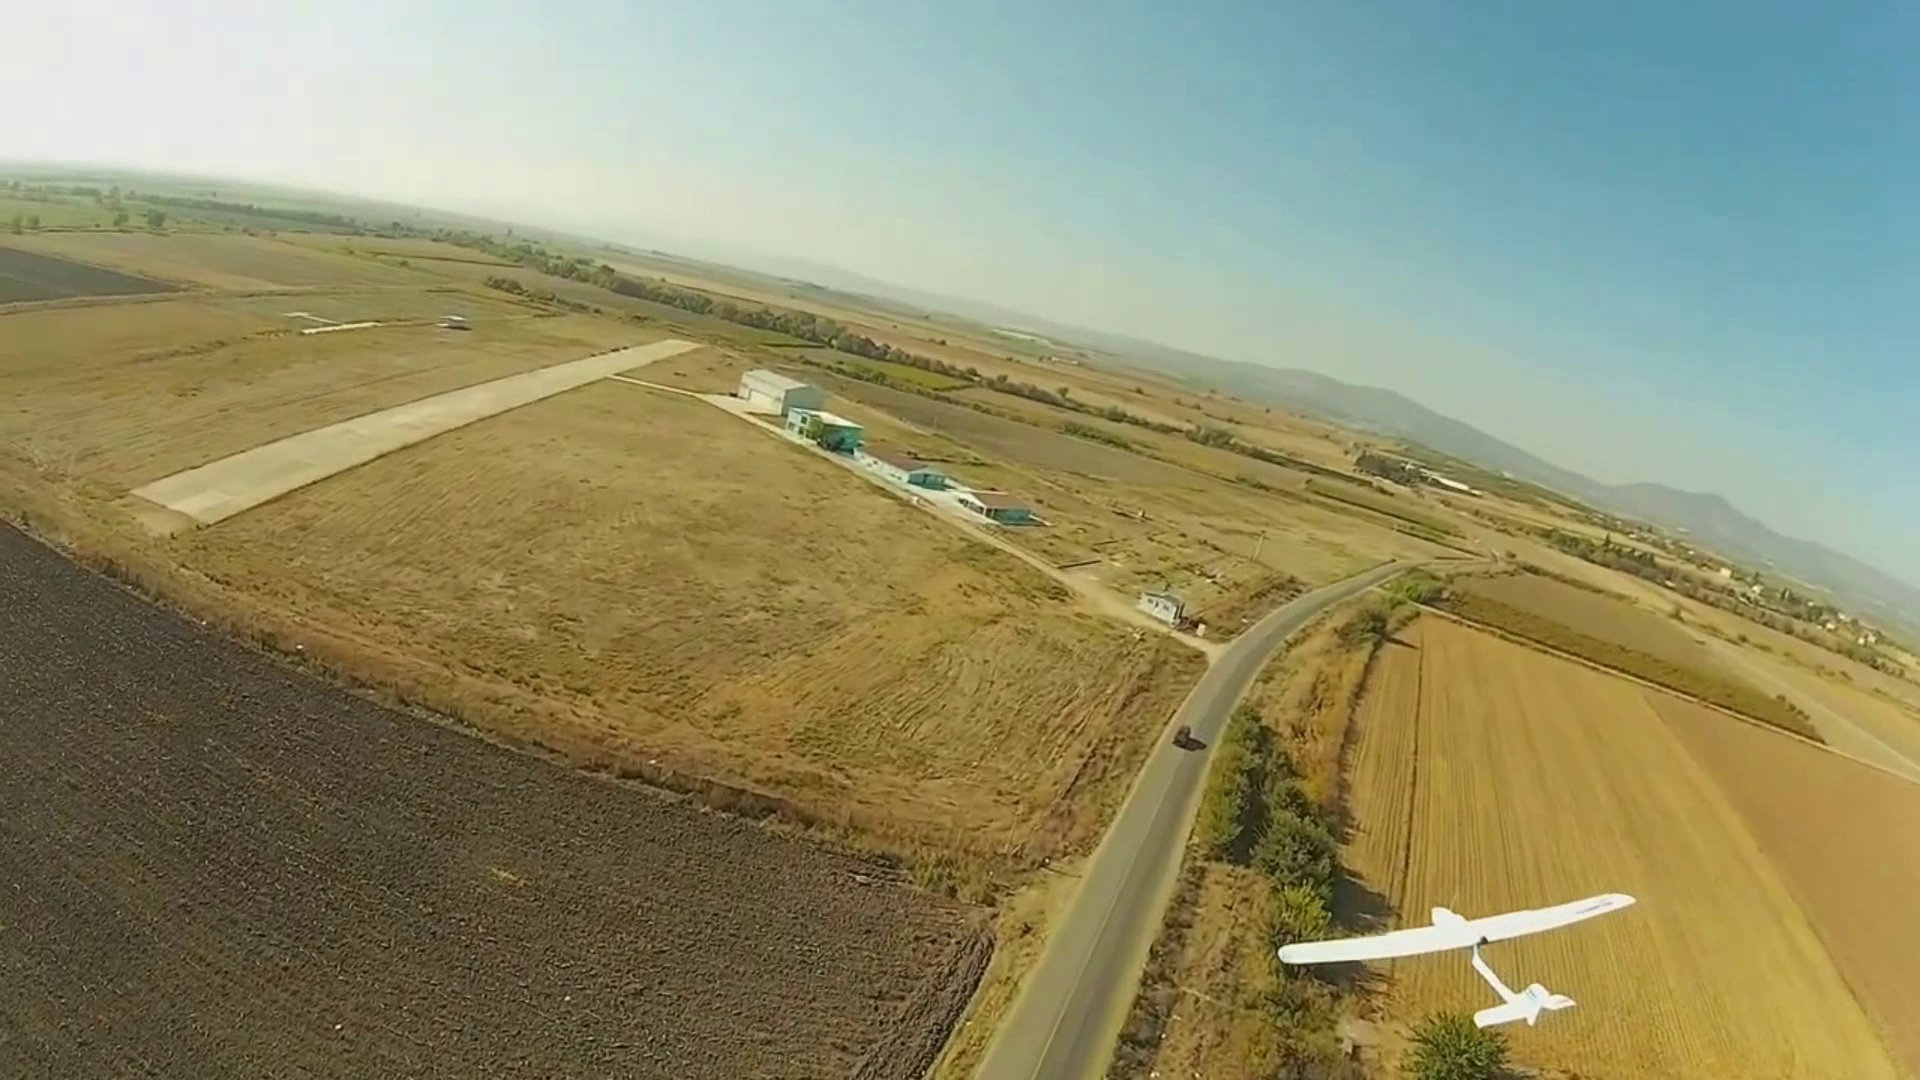airplane: (1277, 894, 1638, 1035)
